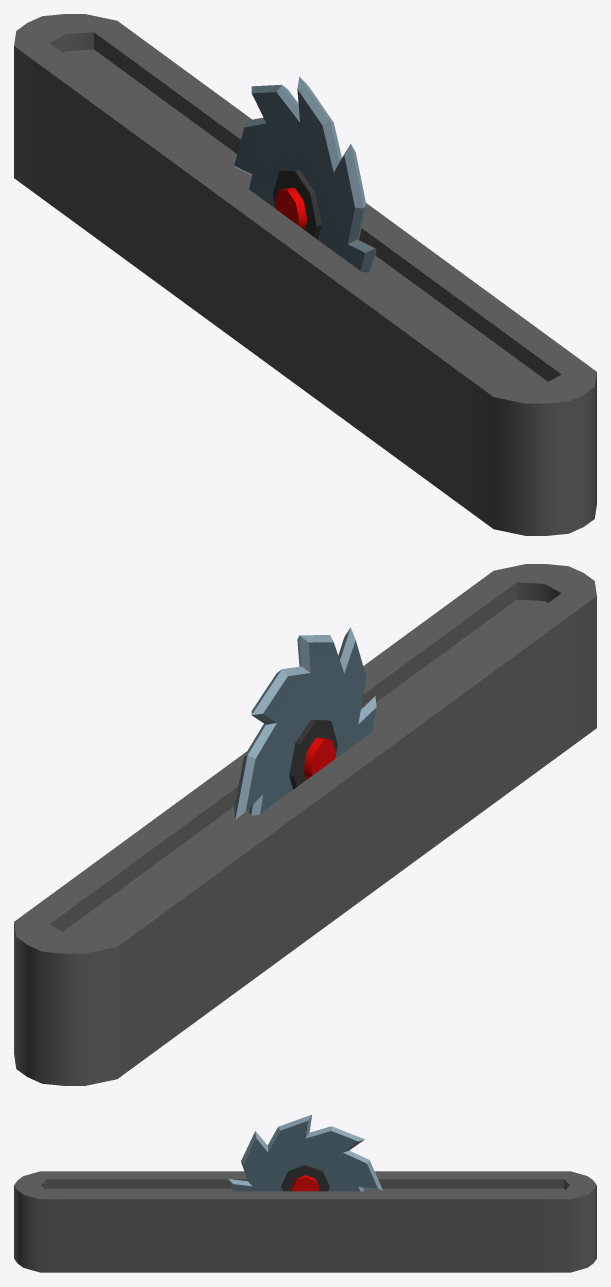
Rendered from trap_maycua.fbx.
3 views of the same model, one above another, from view 1: azimuth 30°, elevation 25°; view 2: azimuth 150°, elevation 25°; view 3: azimuth 270°, elevation 25° (orthographic). The views are drawn at different scales.
Visible parts, largest first — view 1: de, cua; view 2: de, cua; view 3: de, cua.
Boxes of the visible parts, x1,y1,x2,y2 form: de: [14, 14, 596, 535]; cua: [234, 76, 376, 272]; de: [14, 564, 596, 1085]; cua: [234, 627, 376, 819]; de: [14, 1171, 596, 1272]; cua: [228, 1114, 382, 1191].
Size of the model in its own units: 54.53 by 131 by 481.
